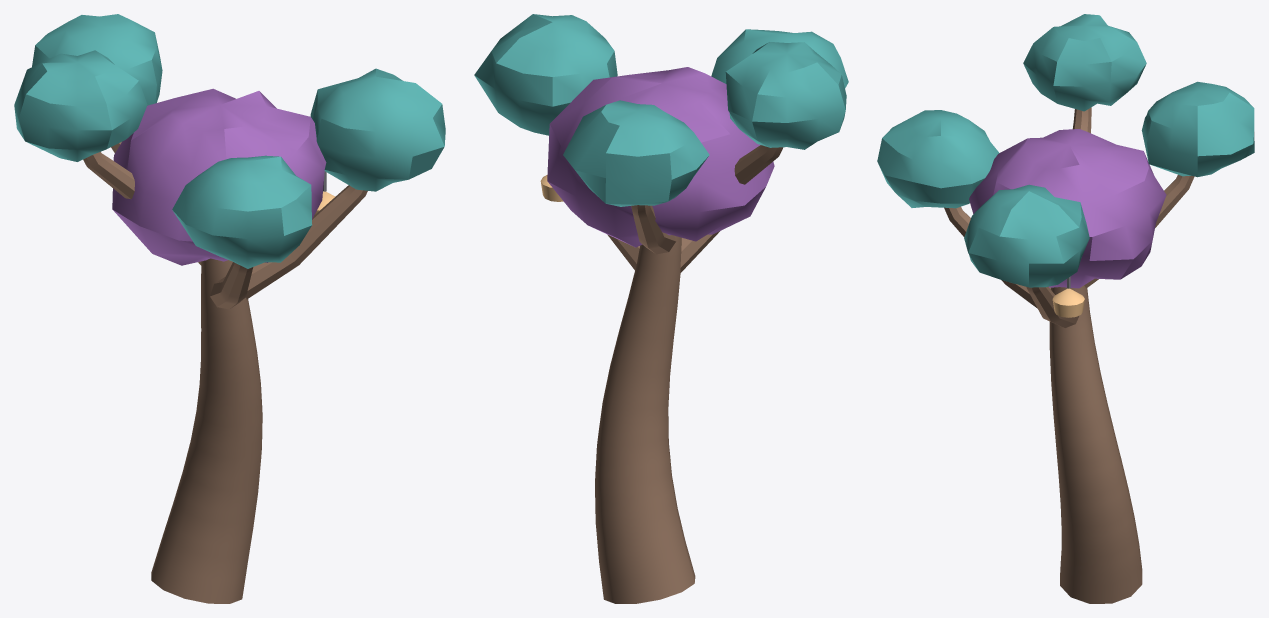
Rendered from TwistedTree_C.fbx.
3 renders of one model, left to right at view 1: azimuth 30°, elevation 25°; view 2: azimuth 150°, elevation 25°; view 3: azimuth 270°, elevation 25°, orthographic. The views are drawn at different scales.
Parts seen in each view (by area): view 1: TwistedTree_C; view 2: TwistedTree_C; view 3: TwistedTree_C.
Part boxes in pixels (left/top/right/bottom): TwistedTree_C: left=14, top=14, right=445, bottom=603; TwistedTree_C: left=474, top=14, right=848, bottom=603; TwistedTree_C: left=877, top=14, right=1254, bottom=603.
Size of the model in its own units: 9.7 by 13.75 by 9.3.
